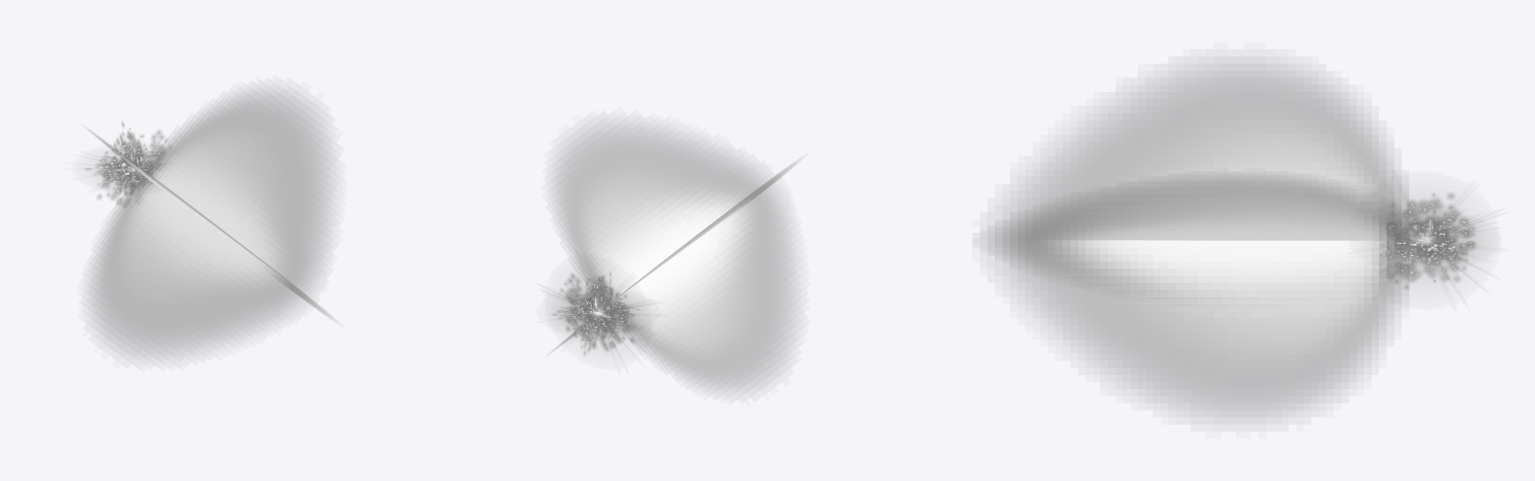
Rendered from si_eos_2100.glb.
The picture shows the model from 3 angles, left to right: view 1: azimuth 30°, elevation 25°; view 2: azimuth 150°, elevation 25°; view 3: azimuth 270°, elevation 25°; orthographic projection. The views are drawn at different scales.
Visible parts, largest first — view 1: layer_01_si_est_0104, layer_02_si_est_0200; view 2: layer_01_si_est_0104, layer_00_si_est_0000, layer_02_si_est_0200; view 3: layer_01_si_est_0104, layer_00_si_est_0000, layer_02_si_est_0200.
Part boxes in pixels (x1,y1,x2,y2): layer_01_si_est_0104: (89, 89, 332, 358); layer_02_si_est_0200: (87, 123, 170, 206); layer_01_si_est_0104: (553, 122, 796, 391); layer_00_si_est_0000: (552, 276, 647, 351); layer_02_si_est_0200: (553, 273, 638, 354); layer_01_si_est_0104: (987, 63, 1409, 417); layer_00_si_est_0000: (1379, 200, 1484, 285); layer_02_si_est_0200: (1381, 194, 1474, 287).
Size of the model in its own units: 14.14 by 14.14 by 24.
3 materials, 3 textured.
